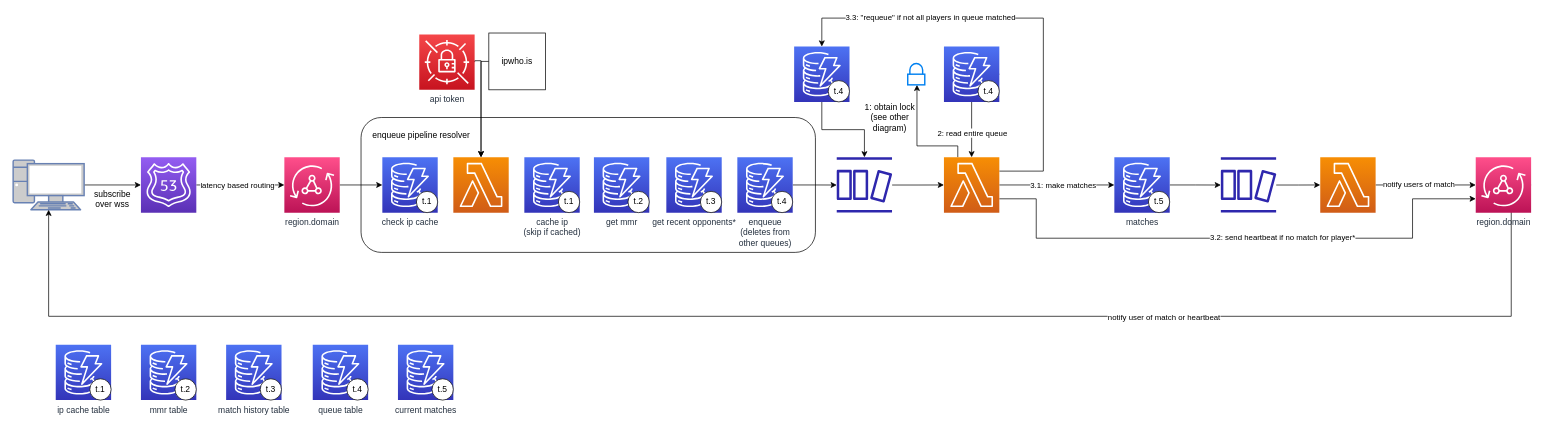
Some shapes in this 1549 by 427 pixel diagram are drawn without their labels. Here are the shapes that lost their labels. From the top down, the centre of each, then its label:
[48,184]: user
[168,185]: domain
[481,185]: ip lookup (geolocation) (skip if cached)
[971,185]: match maker
[1248,184]: regional filter
[1348,185]: match broadcaster
